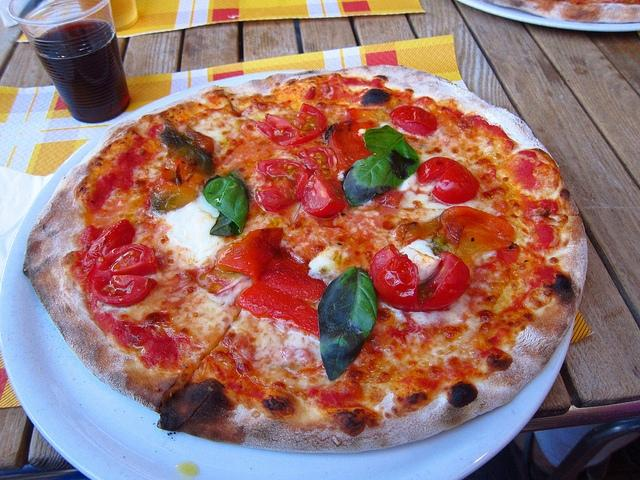tomato: (236, 247, 329, 337), (368, 244, 470, 314), (87, 243, 158, 306), (215, 228, 284, 284), (438, 206, 516, 249), (254, 103, 328, 148), (83, 219, 136, 277), (416, 156, 480, 204), (326, 120, 375, 182), (255, 159, 309, 211), (302, 174, 346, 218), (390, 106, 438, 136), (300, 147, 338, 179)
